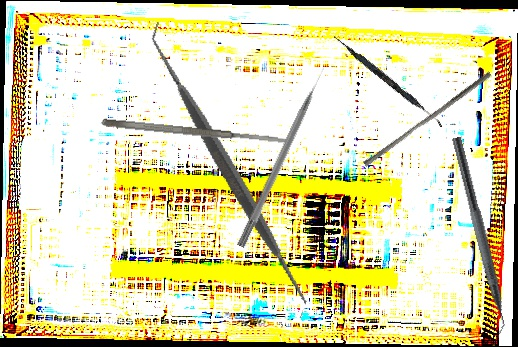Chopper: (437, 136, 516, 345)
Pusher: (236, 63, 331, 250), (362, 66, 493, 172)
Spatula Surgical: (78, 21, 380, 319), (330, 34, 447, 128), (101, 116, 293, 148)
